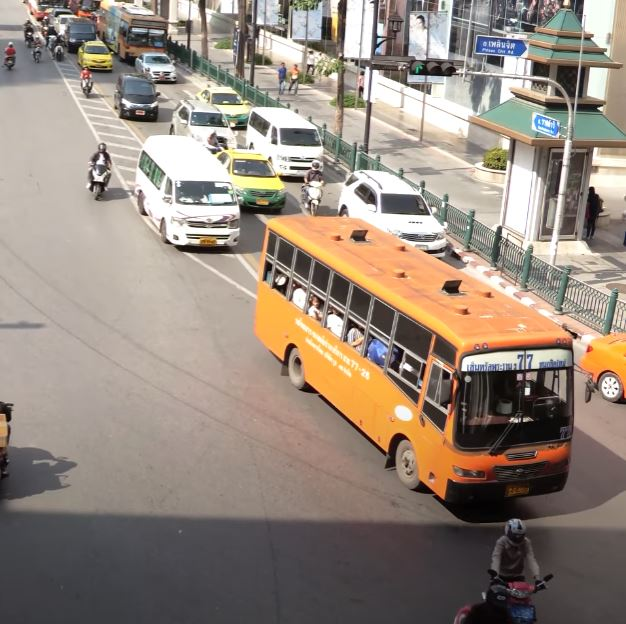Bus: (253, 215, 576, 504), (132, 134, 240, 248), (245, 106, 323, 179), (95, 1, 170, 61)
Car: (337, 168, 448, 264), (213, 148, 286, 211), (170, 98, 237, 153), (194, 86, 249, 128), (113, 72, 158, 120), (135, 53, 176, 83), (77, 40, 113, 71)
Motorcycle: (447, 517, 555, 624), (85, 142, 113, 202), (300, 159, 325, 216), (79, 64, 94, 98), (2, 40, 18, 71), (29, 34, 44, 64)
